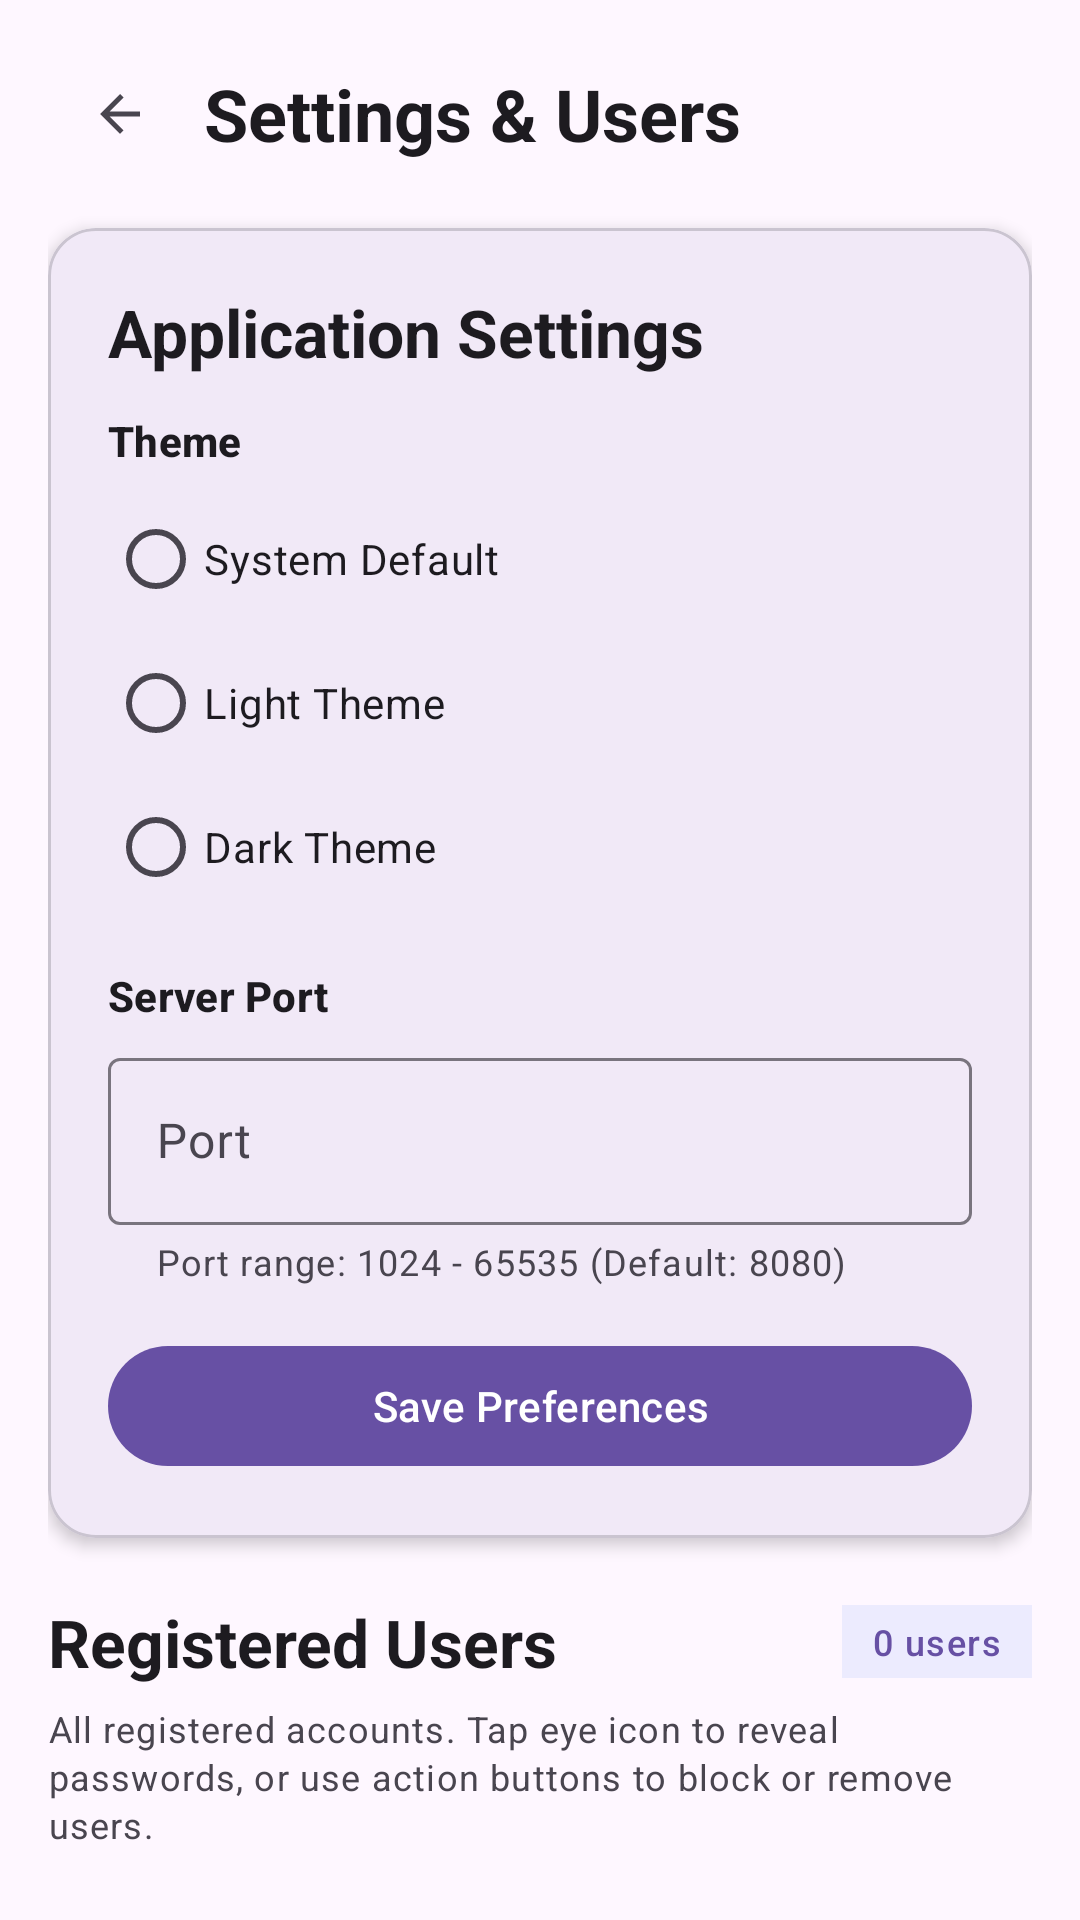

Locate icon controls on the screen. Image size 1080x1920, boxes as (x1, y1, x2, y2).
Go Back: (100, 94, 140, 134)
